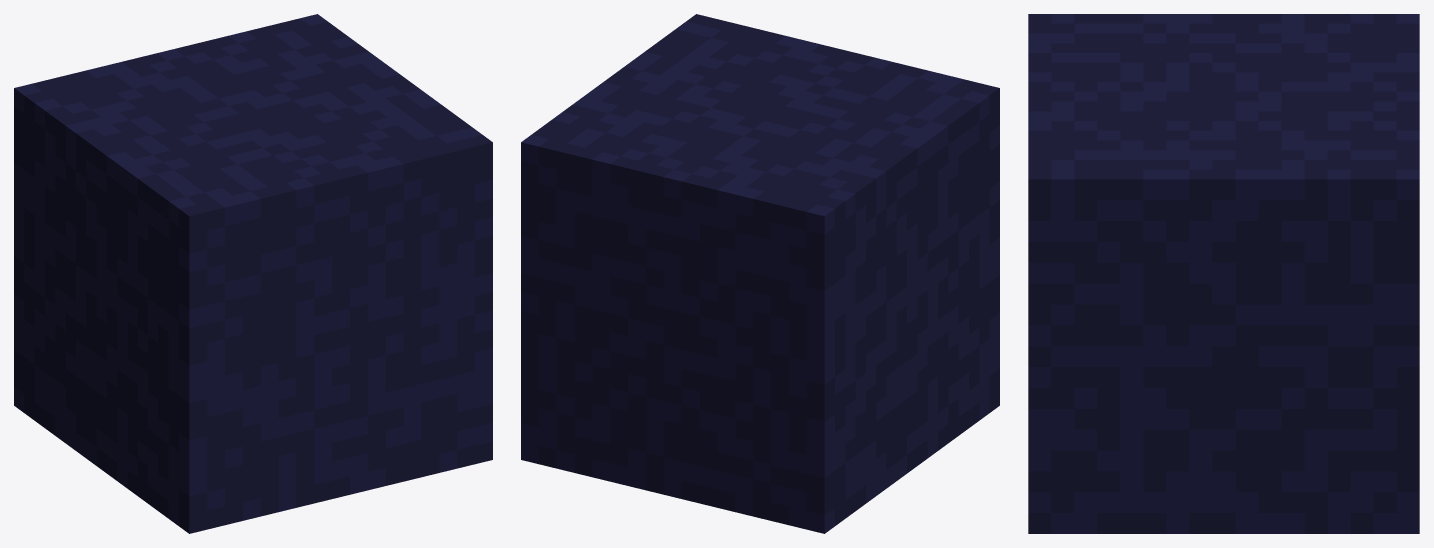
The model's file is LunaDirt.obj.
3 renders of one model, left to right at view 1: azimuth 30°, elevation 25°; view 2: azimuth 150°, elevation 25°; view 3: azimuth 270°, elevation 25°, orthographic. The views are drawn at different scales.
Parts seen in each view (by area): view 1: LunaDirt; view 2: LunaDirt; view 3: LunaDirt.
Boxes of the visible parts, x1,y1,x2,y2 form: LunaDirt: (14,14,492,533); LunaDirt: (521,14,999,533); LunaDirt: (1028,14,1419,533).
Size of the model in its own units: 17 by 17 by 17.
1 material, 1 textured.
